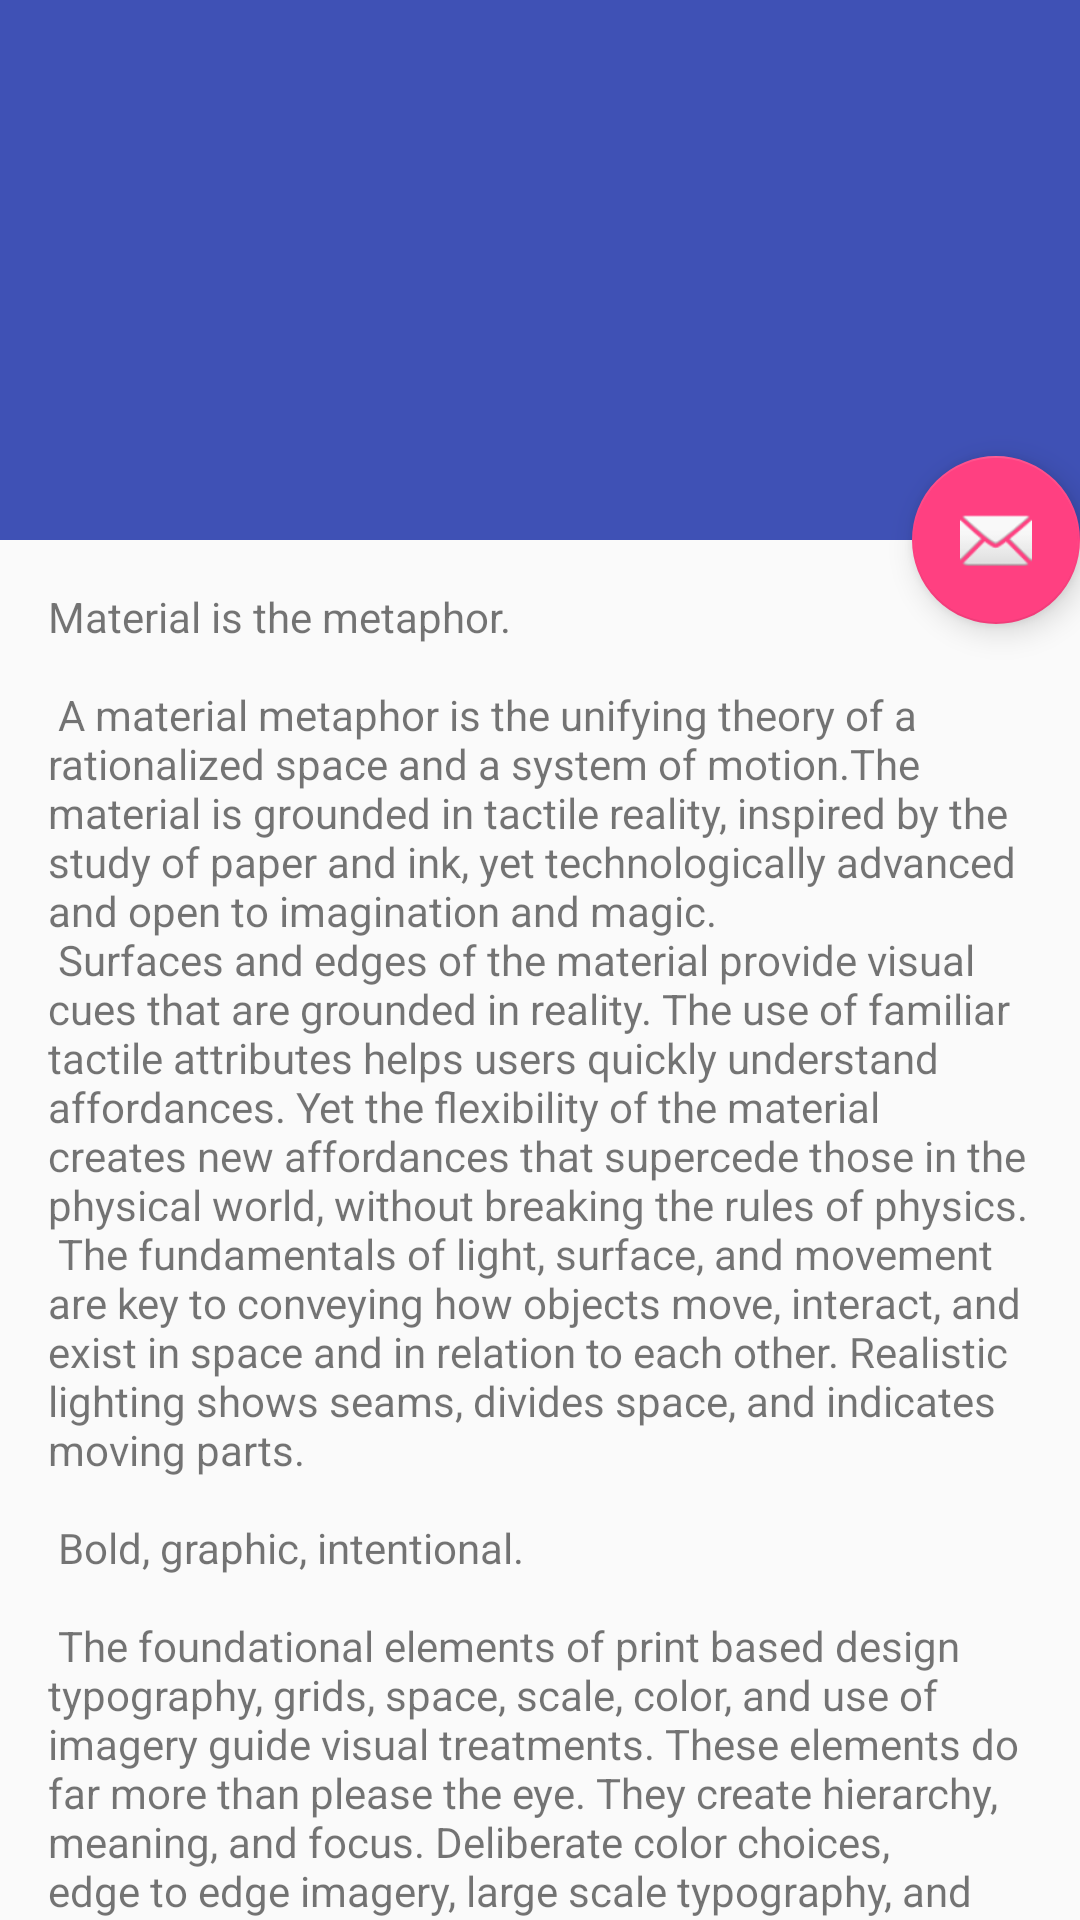

Icons on this 1080px x 1920px Android screen, each with the point to tap as (x,y):
email: (996,540)
